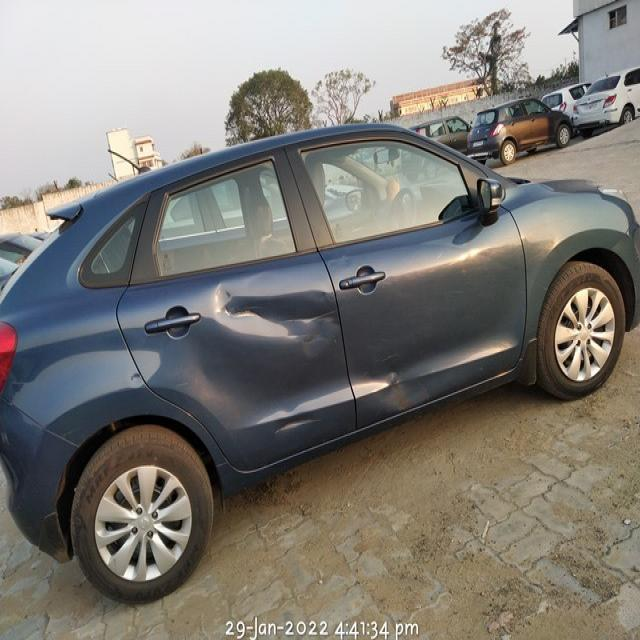damage: (205, 278, 346, 355), (369, 364, 423, 413), (264, 400, 319, 441)
